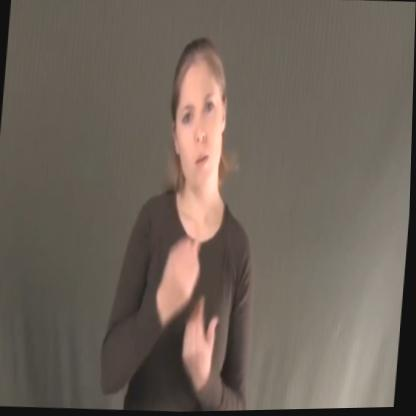HowAreYou: (97, 20, 279, 414)
